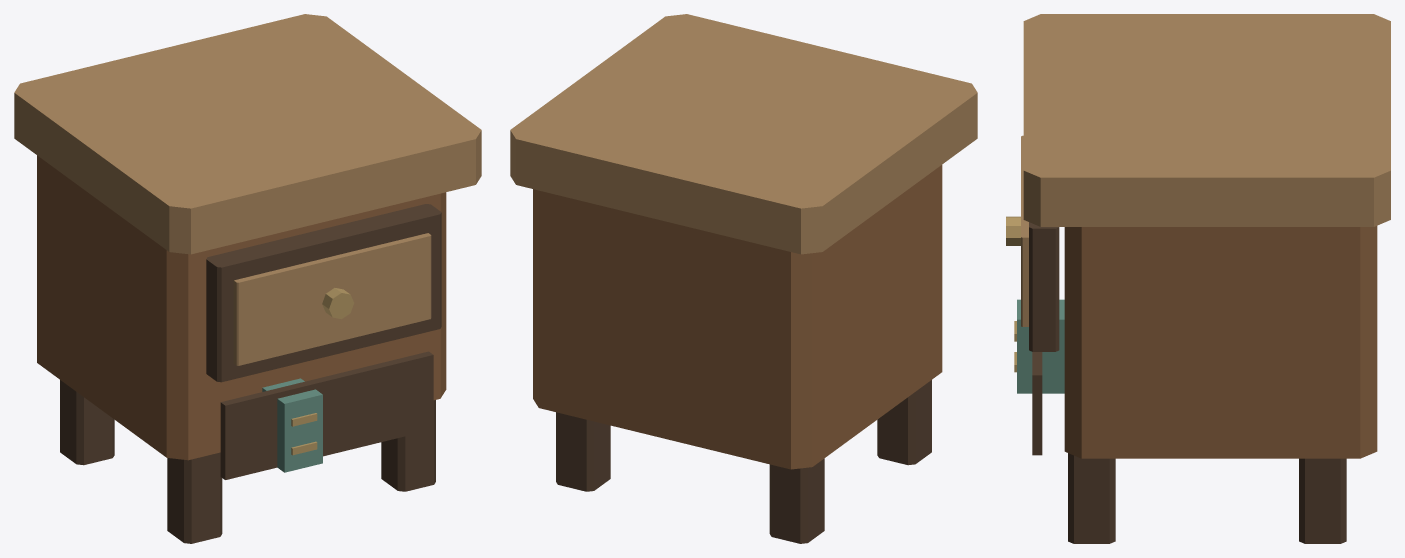
File: nightstand.glb
3 views of the same model, side by side, from view 1: azimuth 30°, elevation 25°; view 2: azimuth 150°, elevation 25°; view 3: azimuth 270°, elevation 25° (orthographic). The views are drawn at different scales.
Visible parts, largest first — view 1: geometry; view 2: geometry; view 3: geometry.
Part boxes in pixels (x1,y1,x2,y2): geometry: (14,14,481,543); geometry: (510,14,977,543); geometry: (1006,14,1390,543).
Size of the model in its own units: 0.57 by 0.62 by 0.566.
